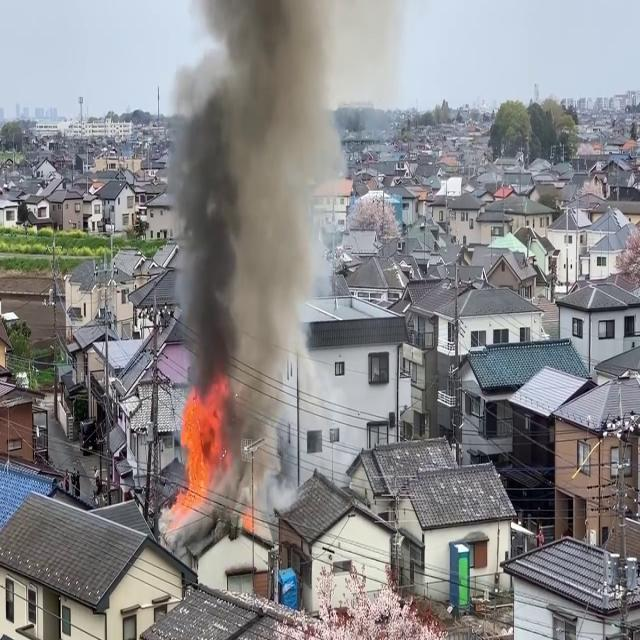Fire: (172, 380, 228, 516)
Smoke: (162, 0, 341, 511)
